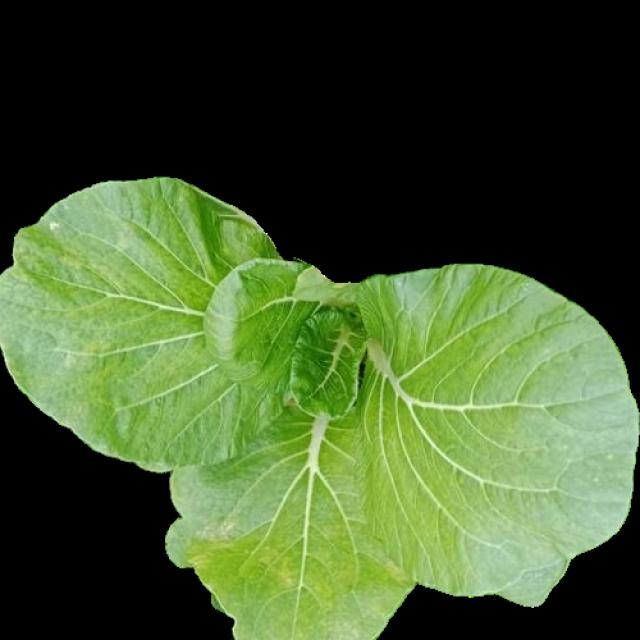mature: (2, 180, 634, 640)
unhealthy: (6, 180, 272, 480), (167, 395, 408, 640)
